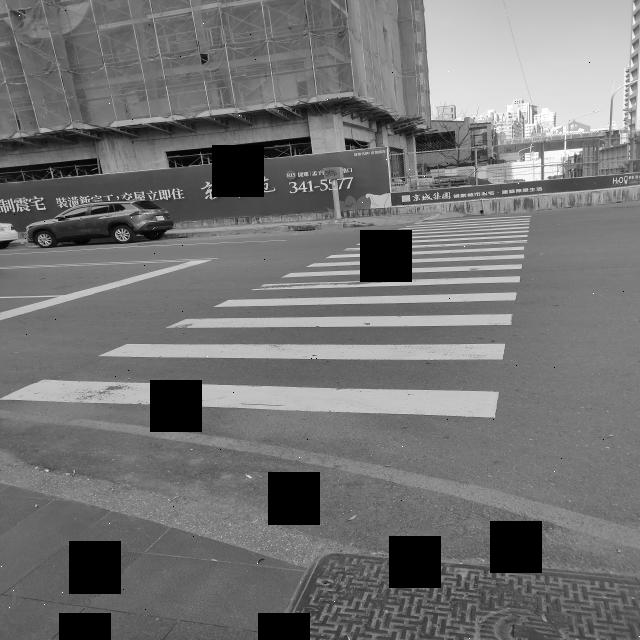zebra_crossing: (228, 306, 640, 517)
